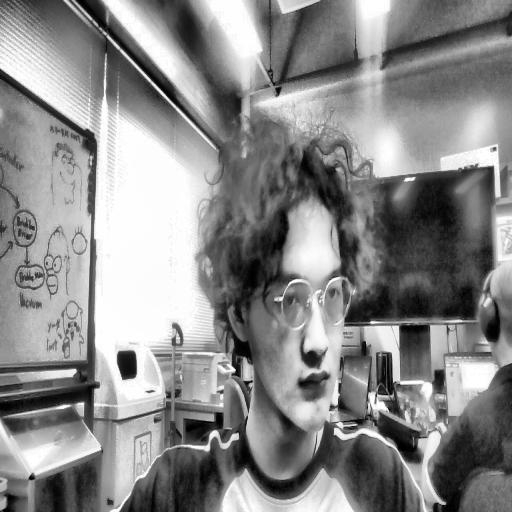Daifuku: (193, 117, 380, 441)
Not Daifuku: (473, 252, 512, 374)
